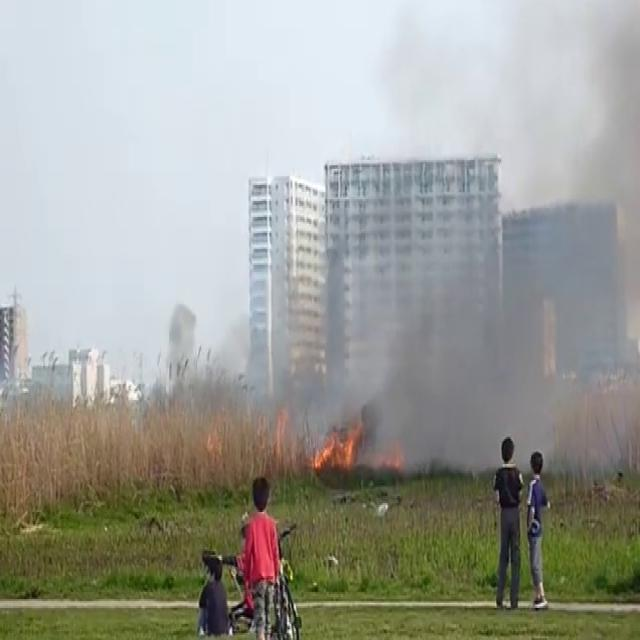Fire: (313, 410, 370, 480)
Smoke: (358, 12, 640, 472)
